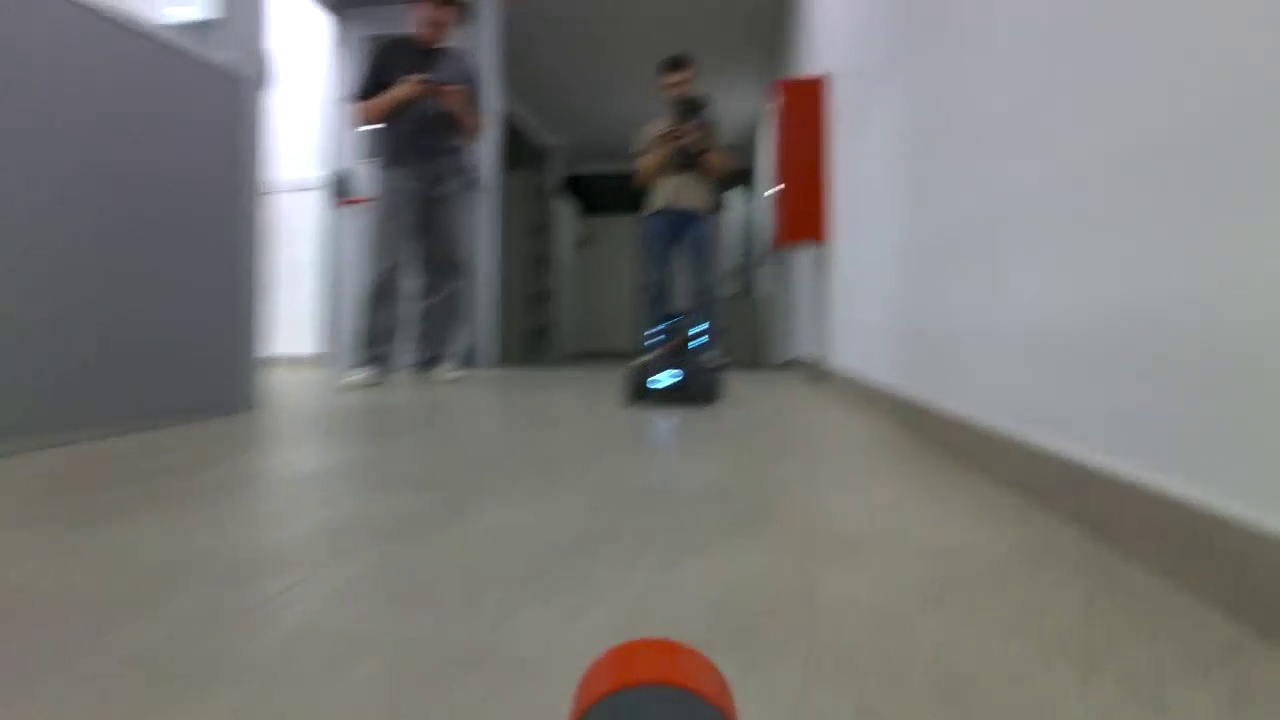robot: (628, 312, 728, 406)
